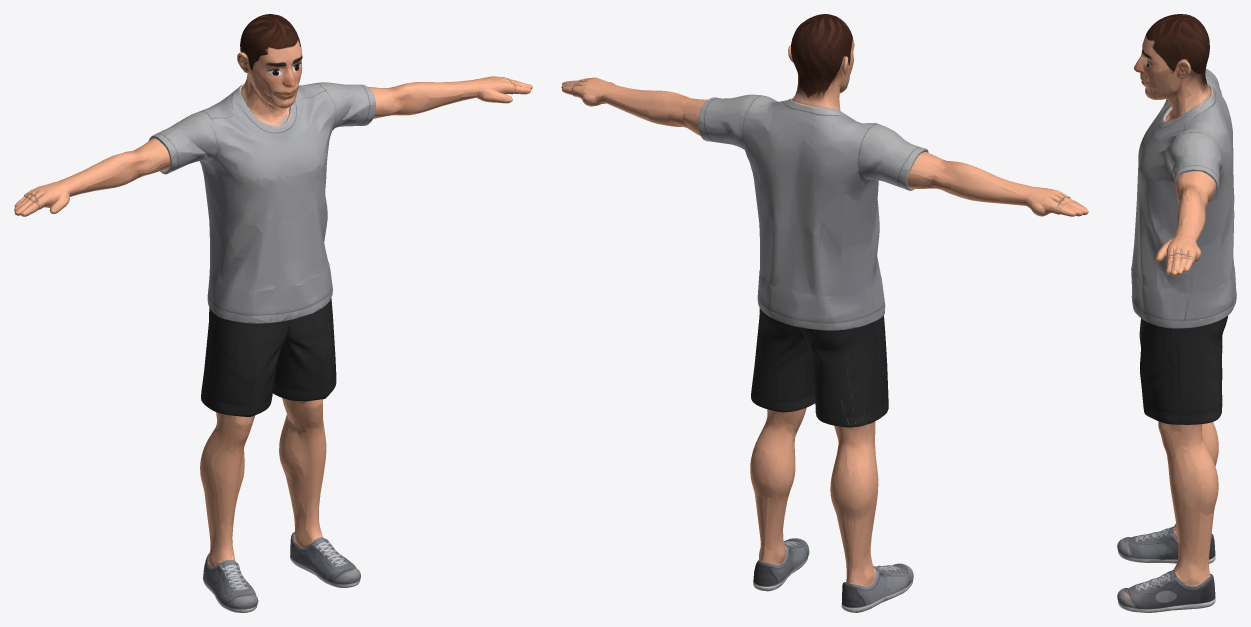
Rendered from base_male_test.glb.
3 renders of one model, left to right at view 1: azimuth 30°, elevation 25°; view 2: azimuth 150°, elevation 25°; view 3: azimuth 270°, elevation 25°, orthographic.
Size of the model in its own units: 1.83 by 1.9 by 0.363.
Materials: 1 (1 with a texture image).
